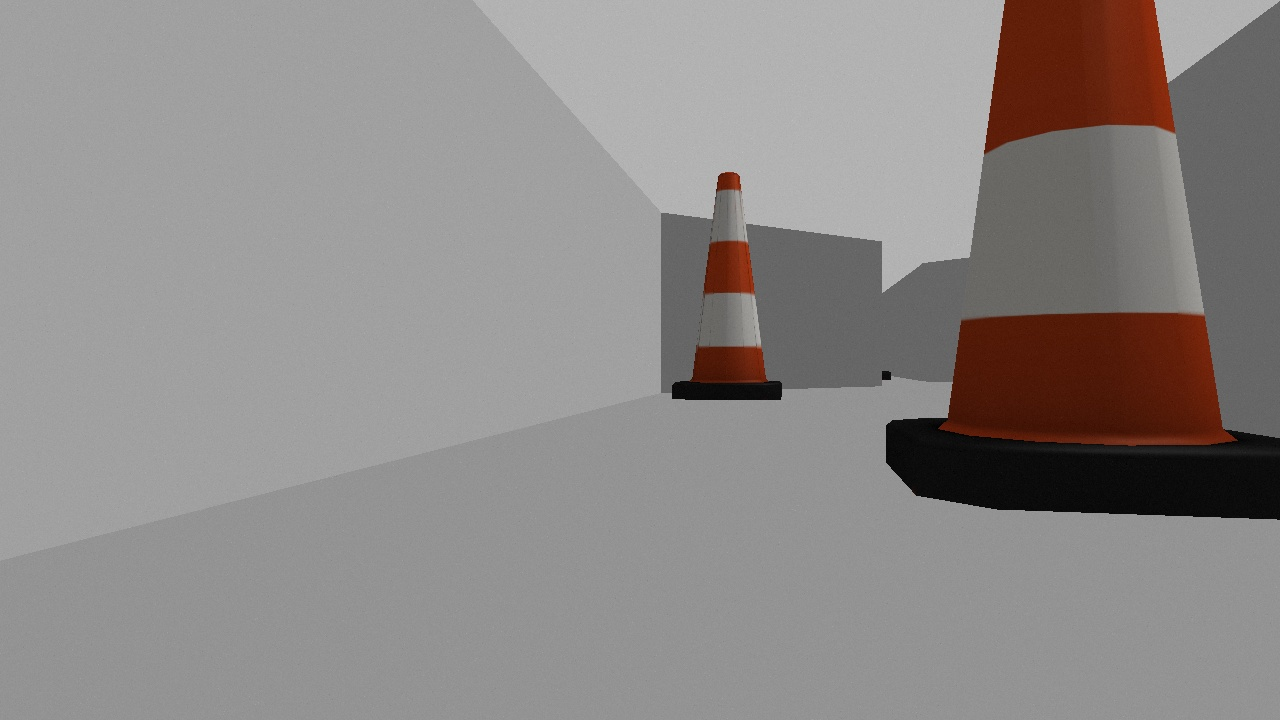barricade: (873, 1, 1280, 526), (666, 162, 788, 403)
